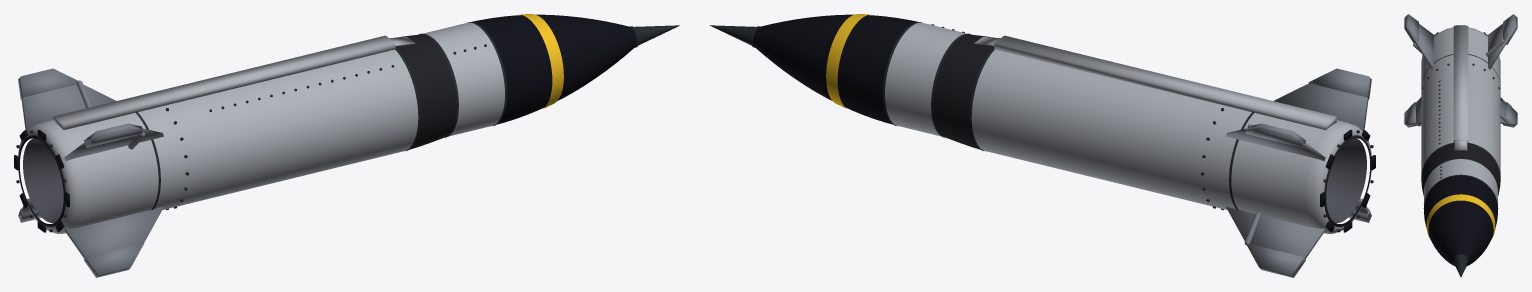
The model's file is mgm-140-atacms.glb.
The picture shows the model from 3 angles, left to right: view 1: azimuth 30°, elevation 25°; view 2: azimuth 150°, elevation 25°; view 3: azimuth 270°, elevation 25°; orthographic projection. The views are drawn at different scales.
Visible parts, largest first — view 1: aft, nose, rail, fwd, collar, fin_1, fin_3, nozzle, fin_0, seams, band, pads (+2 smaller); view 2: aft, nose, rail, fwd, collar, fin_2, fin_0, nozzle, fin_3, seams, band, pads (+2 smaller); view 3: aft, nose, rail, collar, fwd, fin_0, fin_3, band, seams, fin_1, fin_2, tip (+2 smaller).
Boxes of the visible parts, x1=… form: aft: x1=18, y1=49, x2=418, y2=233; nose: x1=467, y1=14, x2=636, y2=125; rail: x1=53, y1=35, x2=395, y2=129; fwd: x1=419, y1=22, x2=504, y2=137; collar: x1=395, y1=34, x2=456, y2=149; fin_1: x1=64, y1=206, x2=163, y2=277; fin_3: x1=18, y1=68, x2=115, y2=130; nozzle: x1=23, y1=138, x2=63, y2=223; fin_0: x1=64, y1=123, x2=163, y2=160; seams: x1=135, y1=22, x2=638, y2=210; band: x1=519, y1=14, x2=563, y2=108; pads: x1=14, y1=129, x2=69, y2=232; aft: x1=971, y1=49, x2=1371, y2=233; nose: x1=753, y1=14, x2=922, y2=125; rail: x1=994, y1=35, x2=1336, y2=129; fwd: x1=885, y1=22, x2=970, y2=137; collar: x1=933, y1=34, x2=994, y2=149; fin_2: x1=1226, y1=206, x2=1325, y2=277; fin_0: x1=1274, y1=68, x2=1371, y2=130; nozzle: x1=1326, y1=138, x2=1366, y2=223; fin_3: x1=1226, y1=123, x2=1325, y2=160; seams: x1=751, y1=22, x2=1254, y2=210; band: x1=826, y1=14, x2=870, y2=108; pads: x1=1320, y1=129, x2=1375, y2=232; aft: x1=1421, y1=27, x2=1500, y2=174; nose: x1=1424, y1=175, x2=1497, y2=266; rail: x1=1453, y1=25, x2=1468, y2=142; collar: x1=1421, y1=143, x2=1500, y2=195; fwd: x1=1424, y1=159, x2=1497, y2=204; fin_0: x1=1404, y1=14, x2=1434, y2=69; fin_3: x1=1485, y1=14, x2=1517, y2=69; band: x1=1426, y1=194, x2=1495, y2=238; seams: x1=1421, y1=54, x2=1500, y2=260; fin_1: x1=1404, y1=97, x2=1421, y2=127; fin_2: x1=1500, y1=97, x2=1517, y2=127; tip: x1=1453, y1=255, x2=1468, y2=277.
Size of the model in its own units: 3.97 by 0.8695 by 0.8695.
